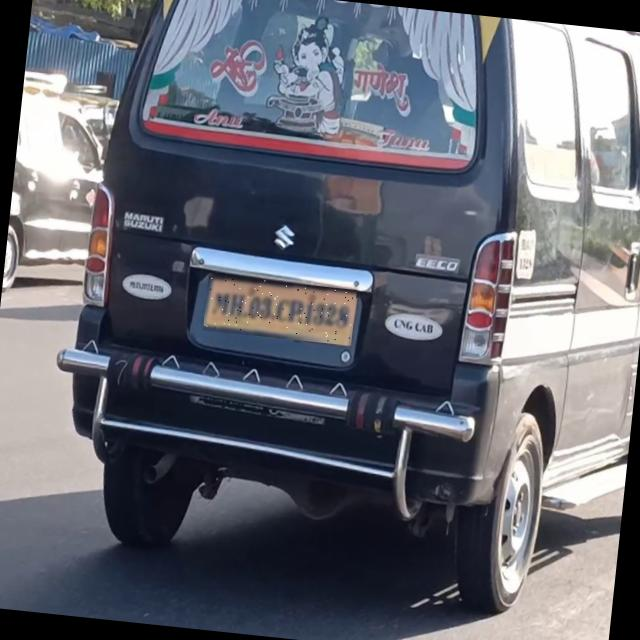Plate: (204, 275, 358, 346)
